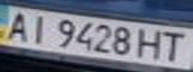2: (90, 20, 115, 55)
4: (72, 19, 96, 52)
8: (112, 24, 136, 57)
9: (51, 16, 78, 50)
A: (0, 8, 33, 43)
H: (136, 26, 166, 61)
I: (24, 12, 54, 45)
T: (157, 29, 190, 62)
